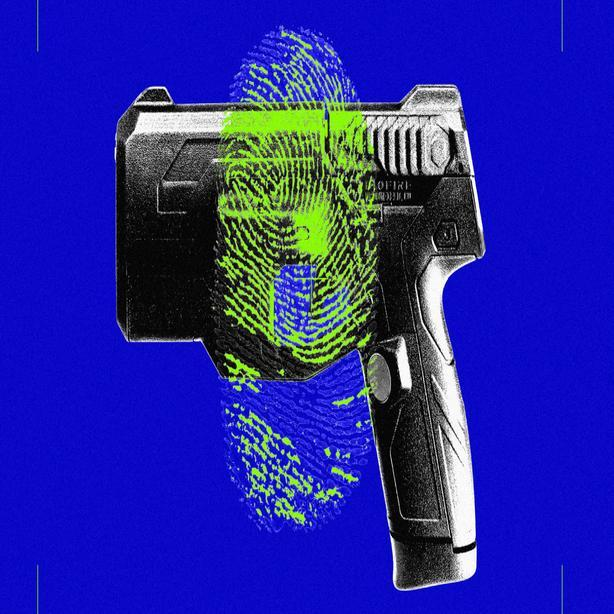Firearm: (94, 65, 535, 597)
